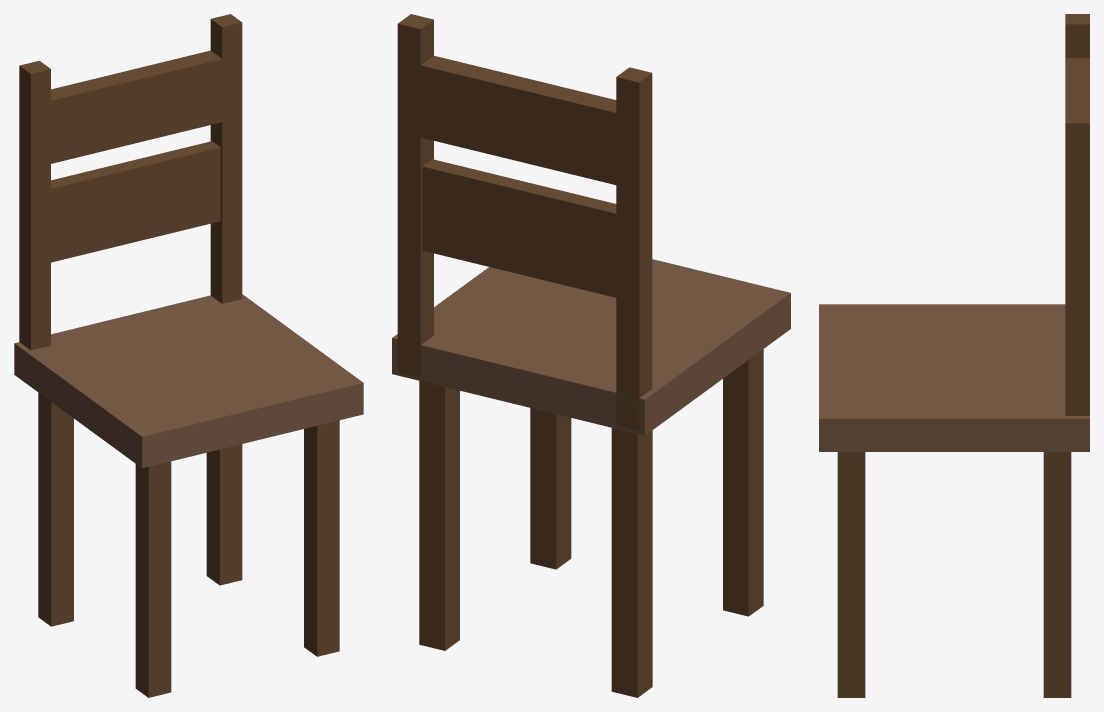
File: GH_Chair_Dining_01.glb
The picture shows the model from 3 angles, left to right: view 1: azimuth 30°, elevation 25°; view 2: azimuth 150°, elevation 25°; view 3: azimuth 270°, elevation 25°; orthographic projection. The views are drawn at different scales.
Visible parts, largest first — view 1: GH_Chair_Dining_01; view 2: GH_Chair_Dining_01; view 3: GH_Chair_Dining_01.
Part boxes in pixels (x1=…): GH_Chair_Dining_01: x1=14, y1=14, x2=363, y2=697; GH_Chair_Dining_01: x1=392, y1=14, x2=790, y2=697; GH_Chair_Dining_01: x1=819, y1=14, x2=1089, y2=697.
Size of the model in its own units: 0.44 by 1.04 by 0.44.
1 material, 1 textured.
